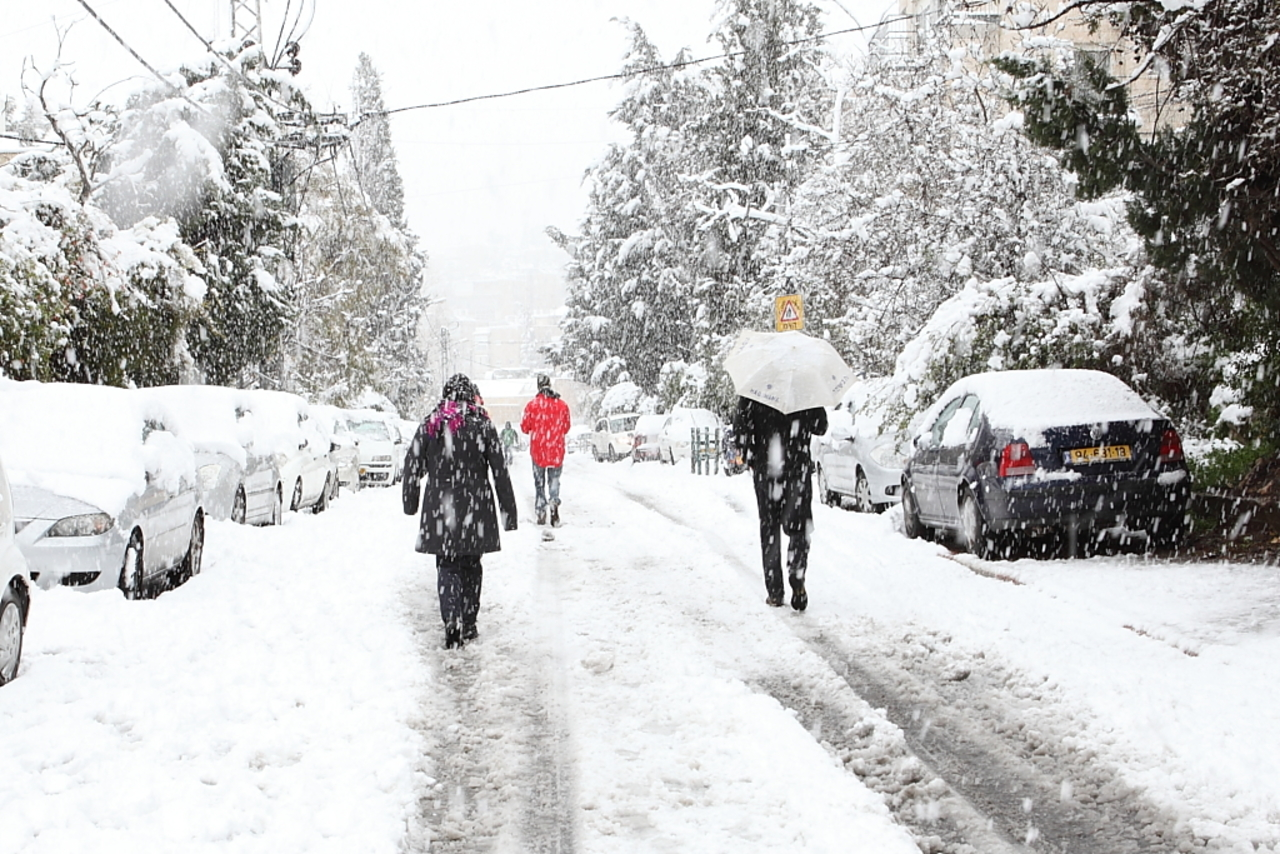car: (901, 368, 1196, 563), (15, 457, 207, 597), (165, 398, 282, 535), (813, 392, 906, 515), (254, 407, 331, 507), (2, 466, 28, 695), (335, 411, 397, 488), (663, 411, 731, 467), (587, 414, 645, 463), (631, 411, 665, 464)
person: (410, 383, 516, 649), (737, 356, 829, 615), (515, 374, 568, 529), (500, 419, 515, 463)
